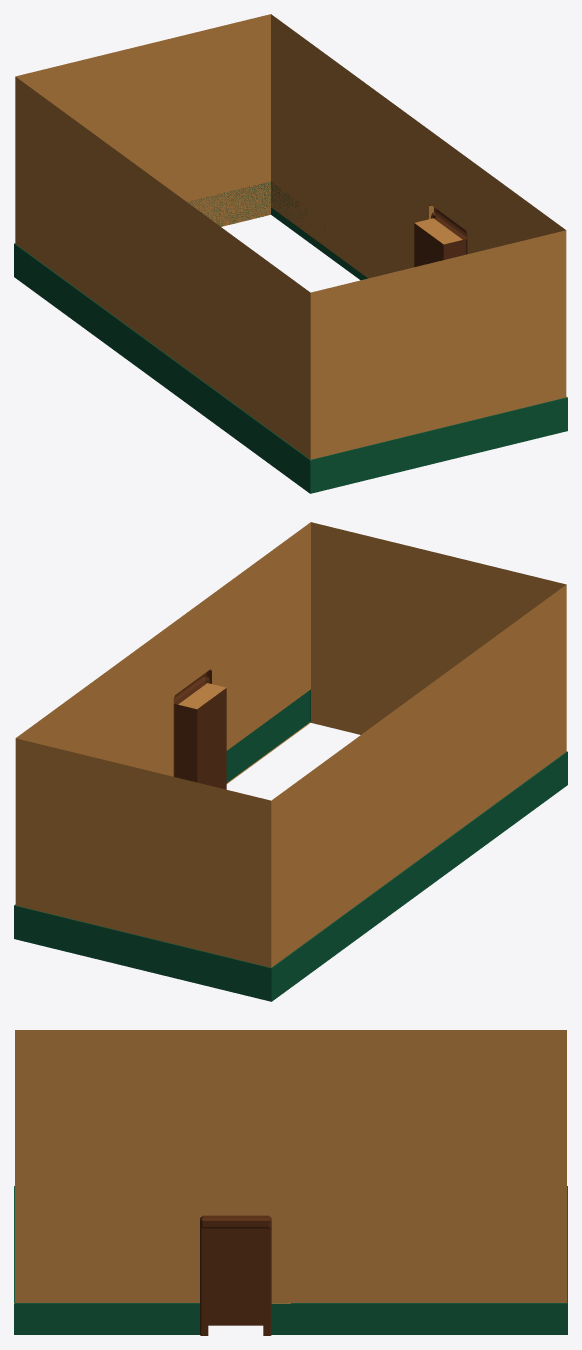
File: Stucco bottom corner 8x4.fbx
3 renders of one model, top to bottom at view 1: azimuth 30°, elevation 25°; view 2: azimuth 150°, elevation 25°; view 3: azimuth 270°, elevation 25°, orthographic. The views are drawn at different scales.
Visible parts, largest first — view 1: Stucco bottom Corner8; view 2: Stucco bottom Corner8; view 3: Stucco bottom Corner8.
Boxes of the visible parts, <box> form: Stucco bottom Corner8: <box>14,14,567,493</box>; Stucco bottom Corner8: <box>14,522,567,1001</box>; Stucco bottom Corner8: <box>14,1030,567,1335</box>.
Size of the model in its own units: 413 by 300 by 803.
